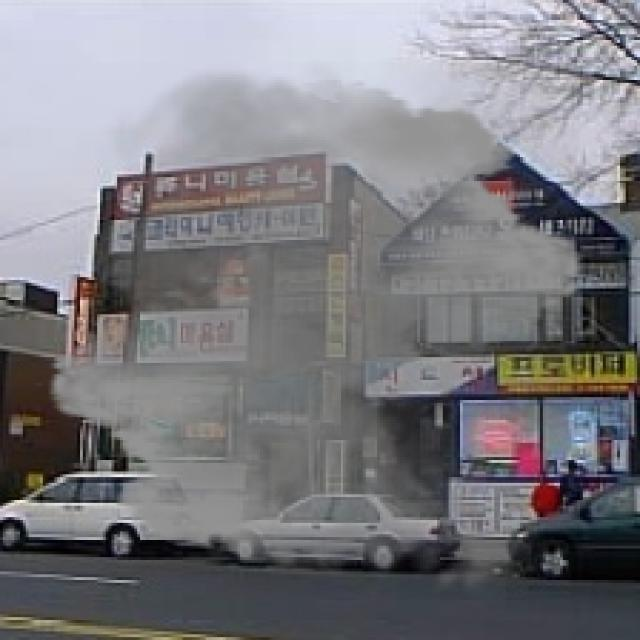smoke: (31, 57, 600, 609)
